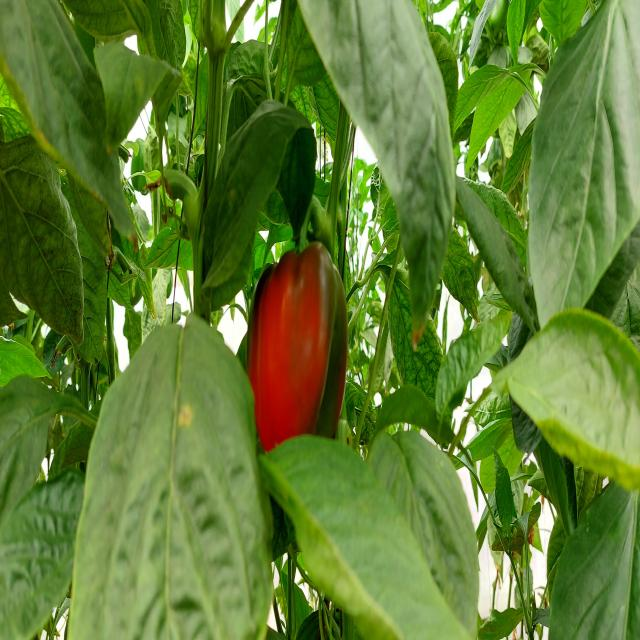BrownishRed--Can-be-Harvested: (235, 208, 354, 486)
